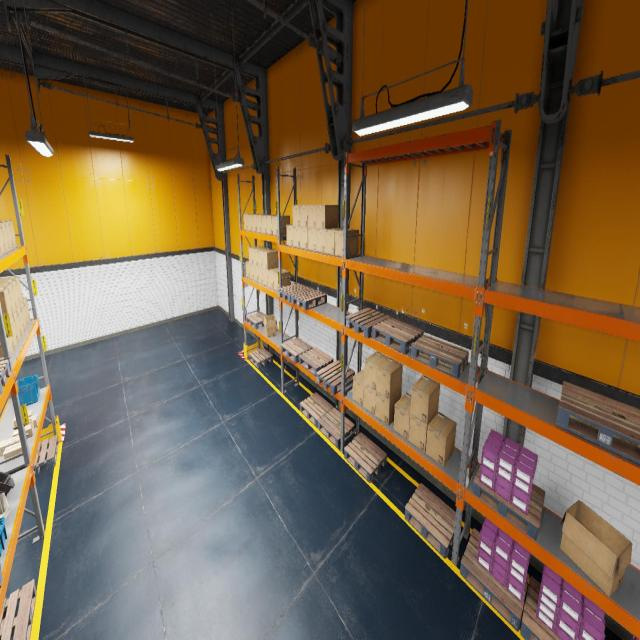box: (560, 500, 632, 597), (426, 412, 456, 467), (410, 375, 440, 425), (408, 412, 438, 453), (377, 357, 402, 400), (364, 352, 389, 391), (376, 390, 401, 425), (394, 393, 411, 440), (335, 228, 359, 256), (0, 276, 23, 304), (0, 279, 20, 309), (316, 204, 338, 229), (0, 282, 17, 314), (325, 228, 343, 255), (0, 220, 17, 248), (352, 369, 364, 407), (0, 287, 13, 320), (0, 435, 20, 456), (12, 419, 34, 438), (0, 221, 14, 250), (364, 384, 376, 416), (3, 442, 22, 462), (272, 215, 290, 235), (273, 270, 290, 291), (13, 409, 33, 426), (268, 268, 284, 289), (262, 250, 278, 270), (257, 248, 273, 268), (264, 315, 278, 337), (266, 215, 282, 234), (0, 222, 10, 252), (10, 316, 18, 350), (253, 247, 267, 266), (14, 310, 22, 342), (248, 246, 262, 264), (17, 306, 25, 336), (256, 215, 270, 232), (262, 214, 274, 233), (20, 302, 28, 330), (248, 214, 261, 231), (252, 214, 264, 232), (316, 229, 325, 253), (23, 297, 30, 325), (0, 223, 6, 255), (308, 205, 316, 228), (300, 204, 308, 227), (292, 204, 300, 227), (308, 228, 316, 250), (300, 227, 308, 249), (293, 225, 300, 248), (7, 337, 15, 357), (286, 225, 293, 246), (29, 414, 38, 427), (263, 268, 268, 287), (258, 266, 263, 284), (249, 263, 254, 280), (245, 261, 250, 278), (243, 214, 248, 230), (254, 265, 258, 282), (0, 339, 3, 360), (0, 246, 2, 256)
pallets: (459, 528, 528, 631), (556, 381, 640, 463), (472, 465, 545, 540), (520, 576, 605, 639), (404, 483, 456, 558), (411, 334, 468, 378), (0, 579, 36, 639), (344, 433, 387, 483), (372, 317, 424, 353), (318, 408, 354, 448), (316, 360, 355, 395), (346, 308, 390, 338), (300, 392, 333, 428), (34, 434, 58, 476), (299, 347, 333, 376), (281, 337, 312, 363), (291, 289, 327, 310), (277, 283, 311, 302), (248, 347, 273, 368), (0, 360, 11, 394), (246, 312, 266, 329), (0, 562, 3, 587)
